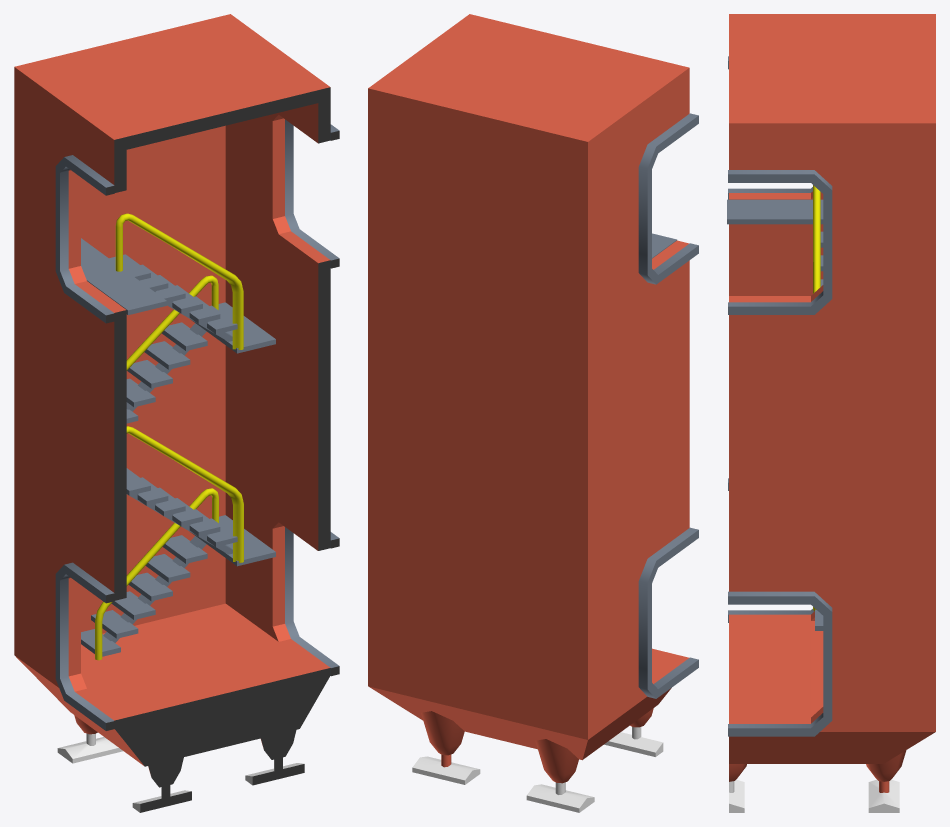
Rendered from Ladder_02.fbx.
The picture shows the model from 3 angles, left to right: view 1: azimuth 30°, elevation 25°; view 2: azimuth 150°, elevation 25°; view 3: azimuth 270°, elevation 25°; orthographic projection. The views are drawn at different scales.
Visible parts, largest first — view 1: Ladder_02; view 2: Ladder_02; view 3: Ladder_02.
Part boxes in pixels (x1,y1,x2,y2): Ladder_02: (14, 14, 339, 812); Ladder_02: (368, 14, 698, 812); Ladder_02: (727, 14, 935, 812).
Bounding box in the file's own units: 5.4 × 15 × 4.04.
